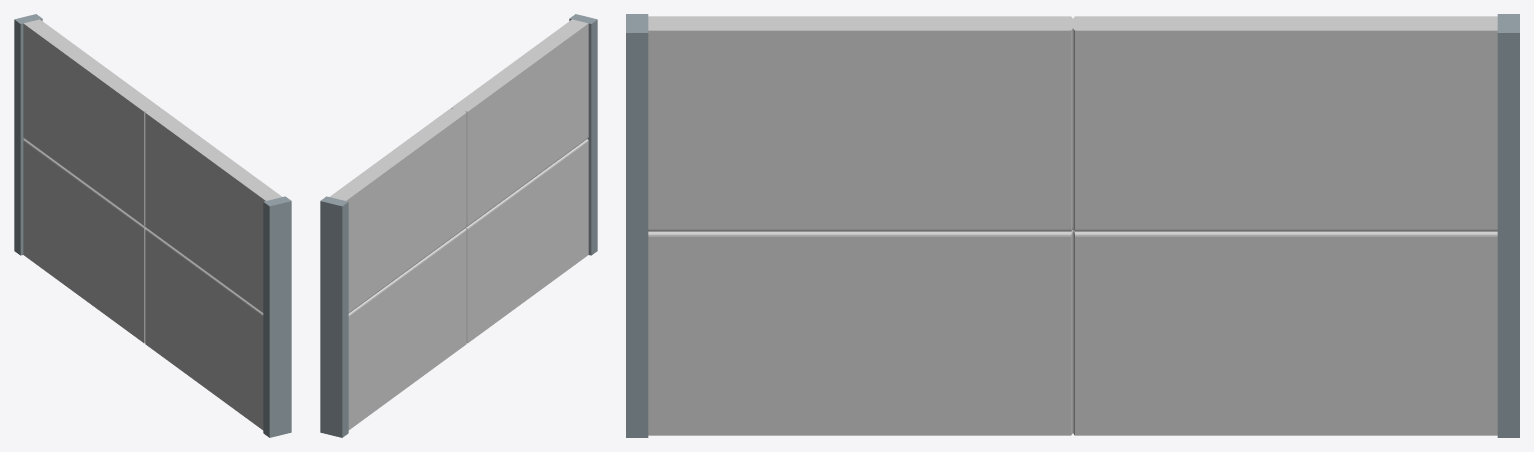
Rendered from WideWall.fbx.
The picture shows the model from 3 angles, left to right: view 1: azimuth 30°, elevation 25°; view 2: azimuth 150°, elevation 25°; view 3: azimuth 270°, elevation 25°; orthographic projection. The views are drawn at different scales.
Parts seen in each view (by area): view 1: Cube; view 2: Cube; view 3: Cube.
Boxes of the visible parts, left/top/right/bottom form: Cube: left=14, top=14, right=291, bottom=437; Cube: left=320, top=14, right=597, bottom=437; Cube: left=626, top=14, right=1519, bottom=437.
Bounding box in the file's own units: 20 × 200 × 400.
